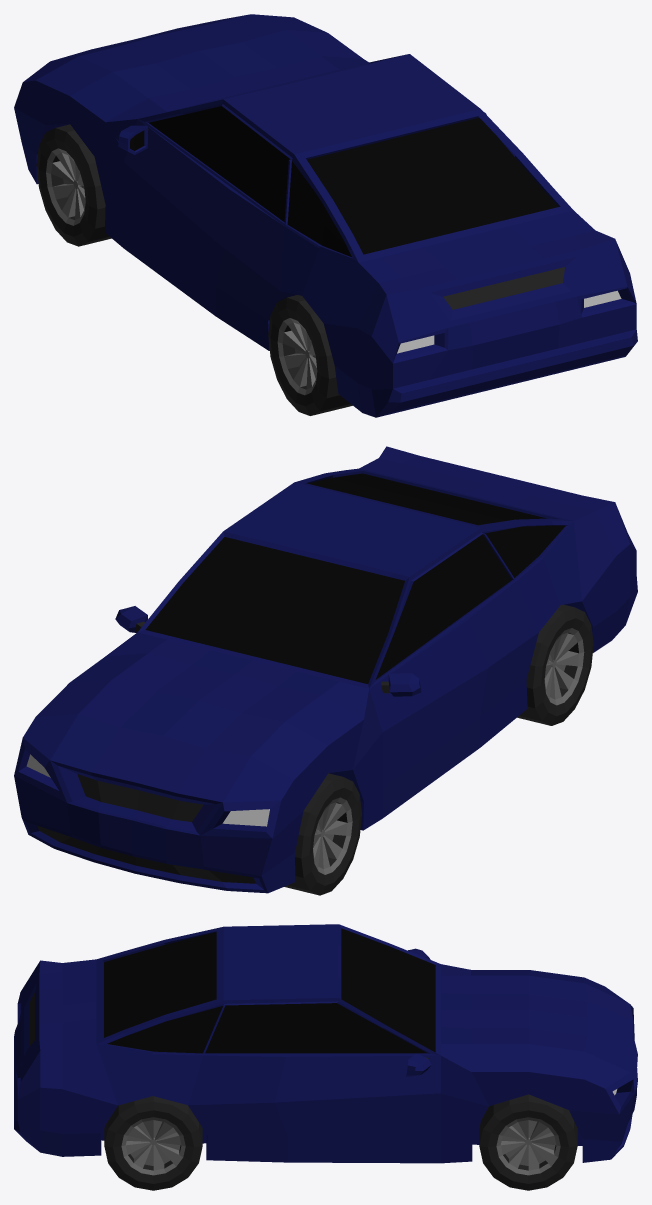
Rendered from LowPolyCar.fbx.
The picture shows the model from 3 angles, top to bottom: view 1: azimuth 30°, elevation 25°; view 2: azimuth 150°, elevation 25°; view 3: azimuth 270°, elevation 25°; orthographic projection. The views are drawn at different scales.
Visible parts, largest first — view 1: Car, Wheel_Back_Left, Wheel_Front_Left, Mirror_Left; view 2: Car, Wheel_Back_Left, Wheel_Front_Left, Mirror_Left; view 3: Car, Wheel_Front_Right, Wheel_Back_Right, Mirror_Right.
Boxes of the visible parts, x1,y1,x2,y2 form: Car: (14,14,637,417); Wheel_Back_Left: (268,295,352,415); Wheel_Front_Left: (36,124,111,246); Mirror_Left: (115,125,148,154); Car: (14,446,637,893); Wheel_Back_Left: (517,604,593,725); Wheel_Front_Left: (284,773,361,895); Mirror_Left: (381,673,421,696); Car: (14,924,637,1163); Wheel_Front_Right: (479,1094,577,1190); Wheel_Back_Right: (104,1096,202,1190); Mirror_Right: (406,1053,431,1076).
Bounding box in the file's own units: 199 × 138 × 439.
